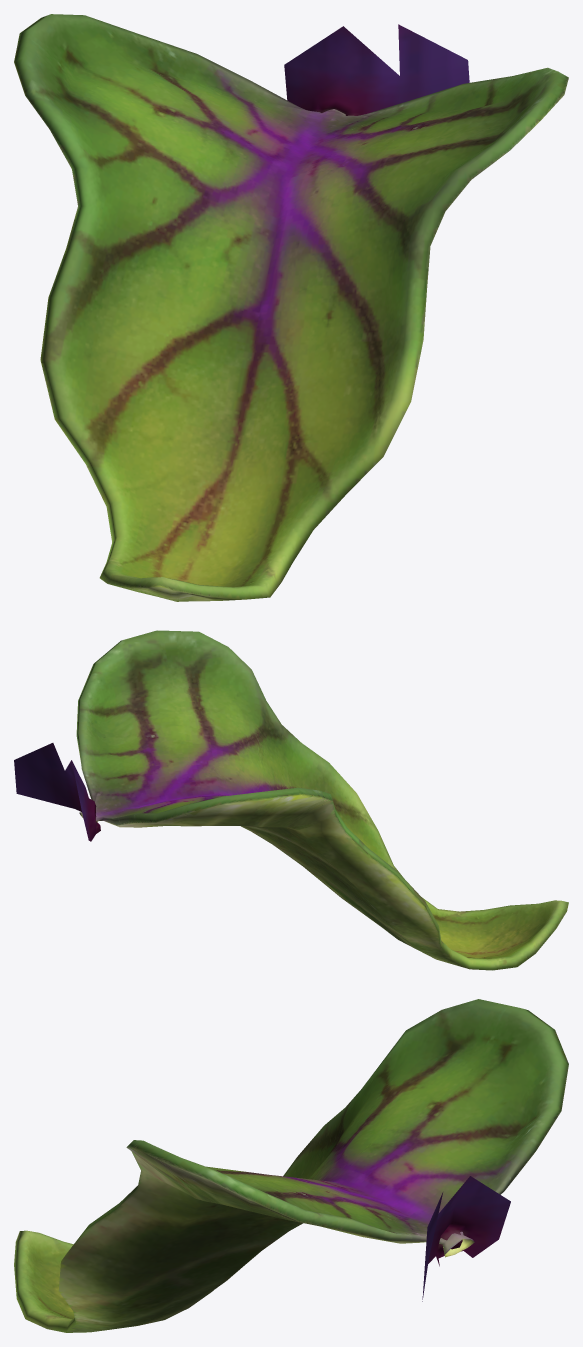
File: carnivora_hoja_del_der.obj
3 renders of one model, top to bottom at view 1: azimuth 30°, elevation 25°; view 2: azimuth 150°, elevation 25°; view 3: azimuth 270°, elevation 25°, orthographic. The views are drawn at different scales.
Parts seen in each view (by area): view 1: carnivora_hoja_del_der; view 2: carnivora_hoja_del_der; view 3: carnivora_hoja_del_der.
Part boxes in pixels (box(x1,y1,x2,y2)): carnivora_hoja_del_der: box(14, 14, 568, 601); carnivora_hoja_del_der: box(14, 630, 568, 970); carnivora_hoja_del_der: box(14, 999, 568, 1332).
Size of the model in its own units: 0.3653 by 0.2405 by 0.3589.
